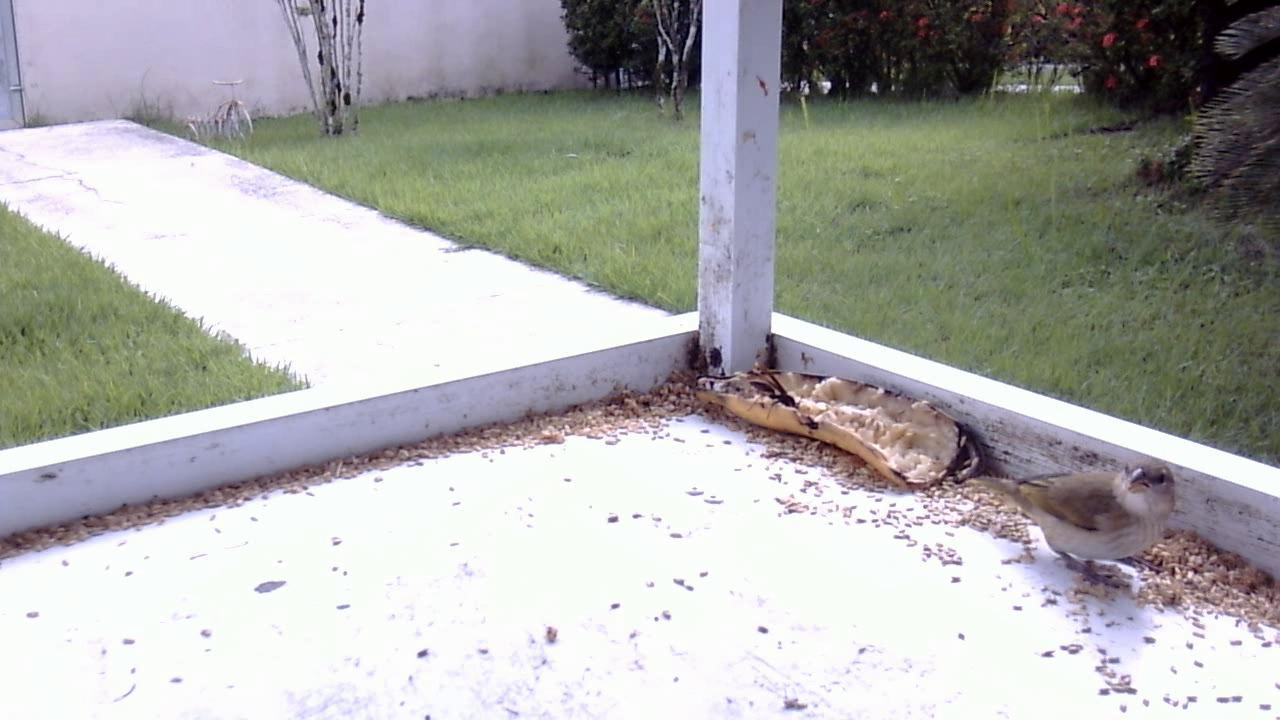canario_do_amazonas: (975, 442, 1180, 597)
